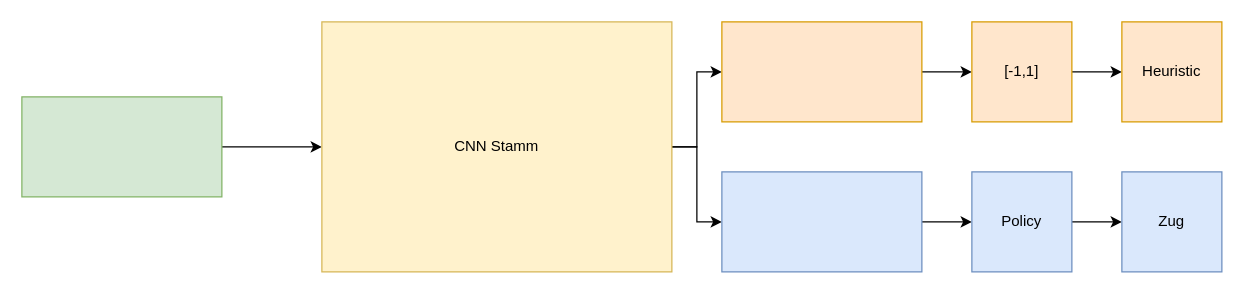
Image size: 1244x294. Some labels were removed from this diagram. Each missing label, with the box of its shape:
Policy Head: (721, 171, 922, 272)
Schach Position (State): (21, 96, 222, 197)
Value Head: (721, 21, 922, 122)
